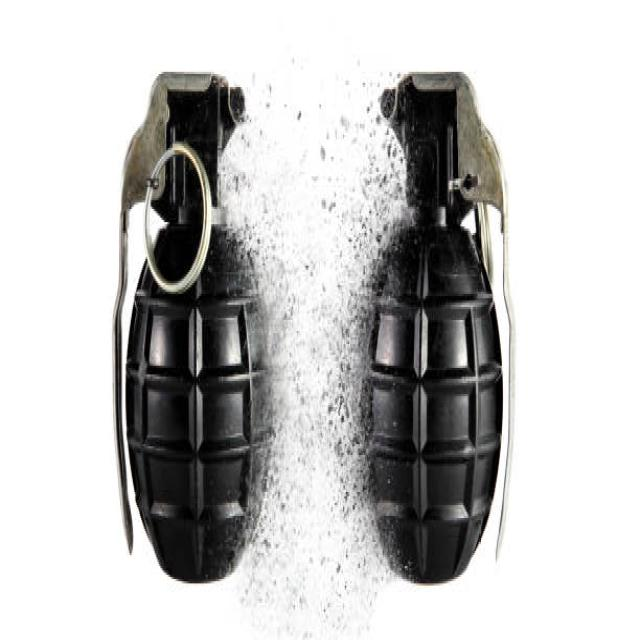grenade: (103, 62, 276, 601), (358, 55, 518, 589)
